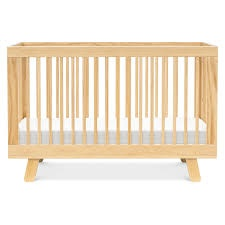crib: (8, 43, 217, 180)
